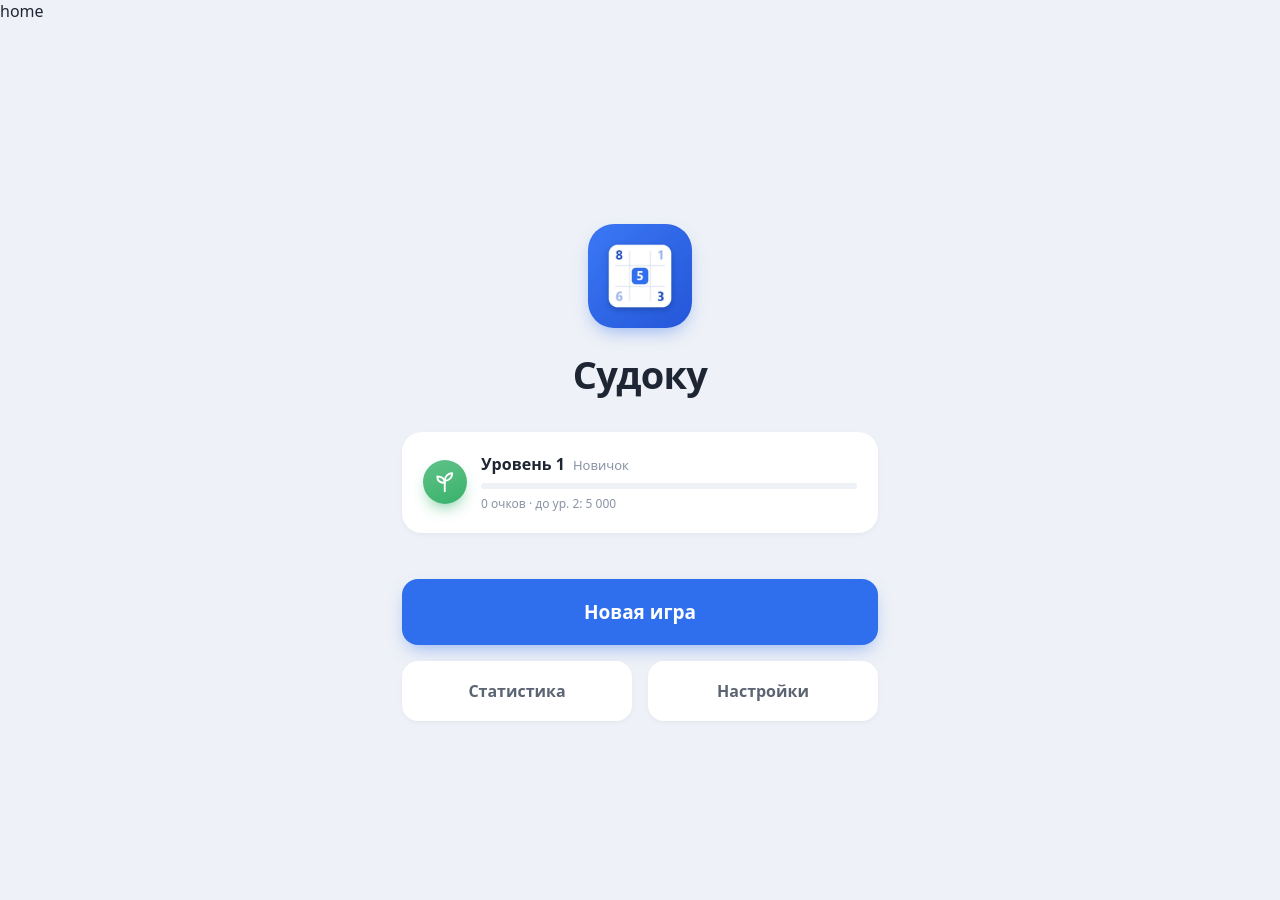
Test case: HomeScreen › Новая игра открывает выбор сложности, выбор ведёт в игру
The width and height of the screenshot is (1280, 900).
Step 1. Click the button with test id "home-new-game" → click(640, 612), box [402,578,878,644]
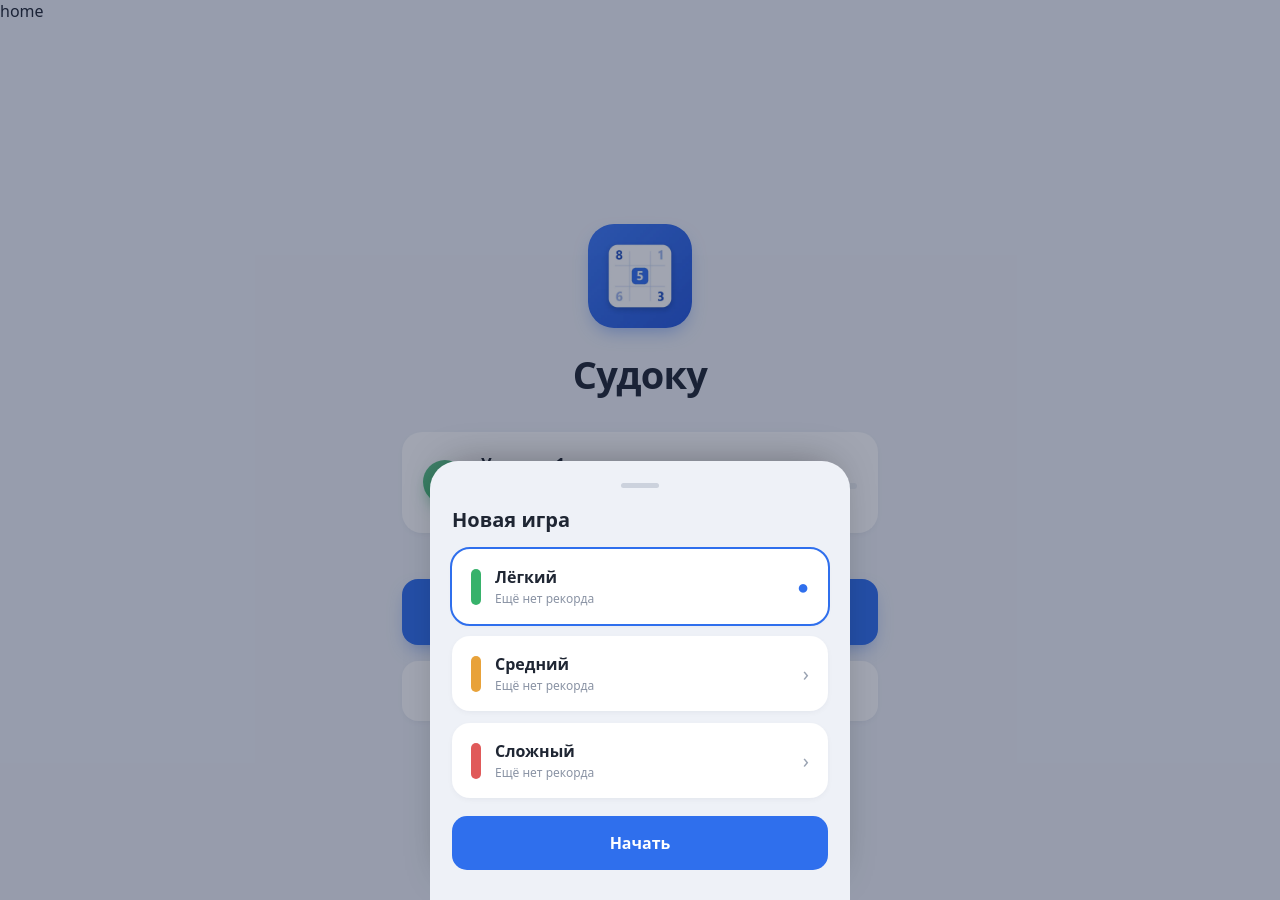
Check: the dialog with test id "difficulty-picker" is shown
Step 2. Click the button with test id "difficulty-medium" → click(532, 664), box [452,636,828,711]
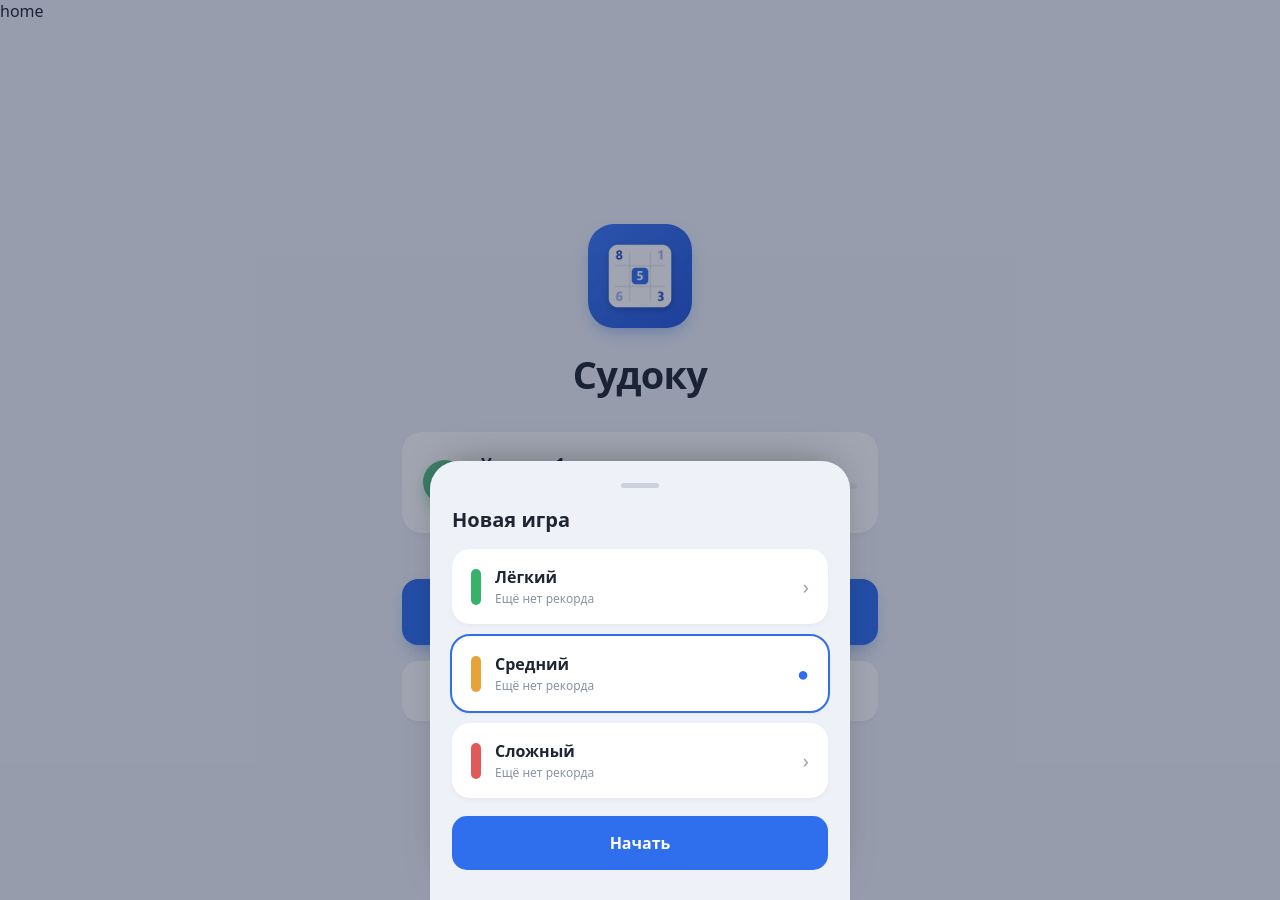
Step 3. Click the button with test id "difficulty-start" → click(640, 843), box [452,816,828,870]
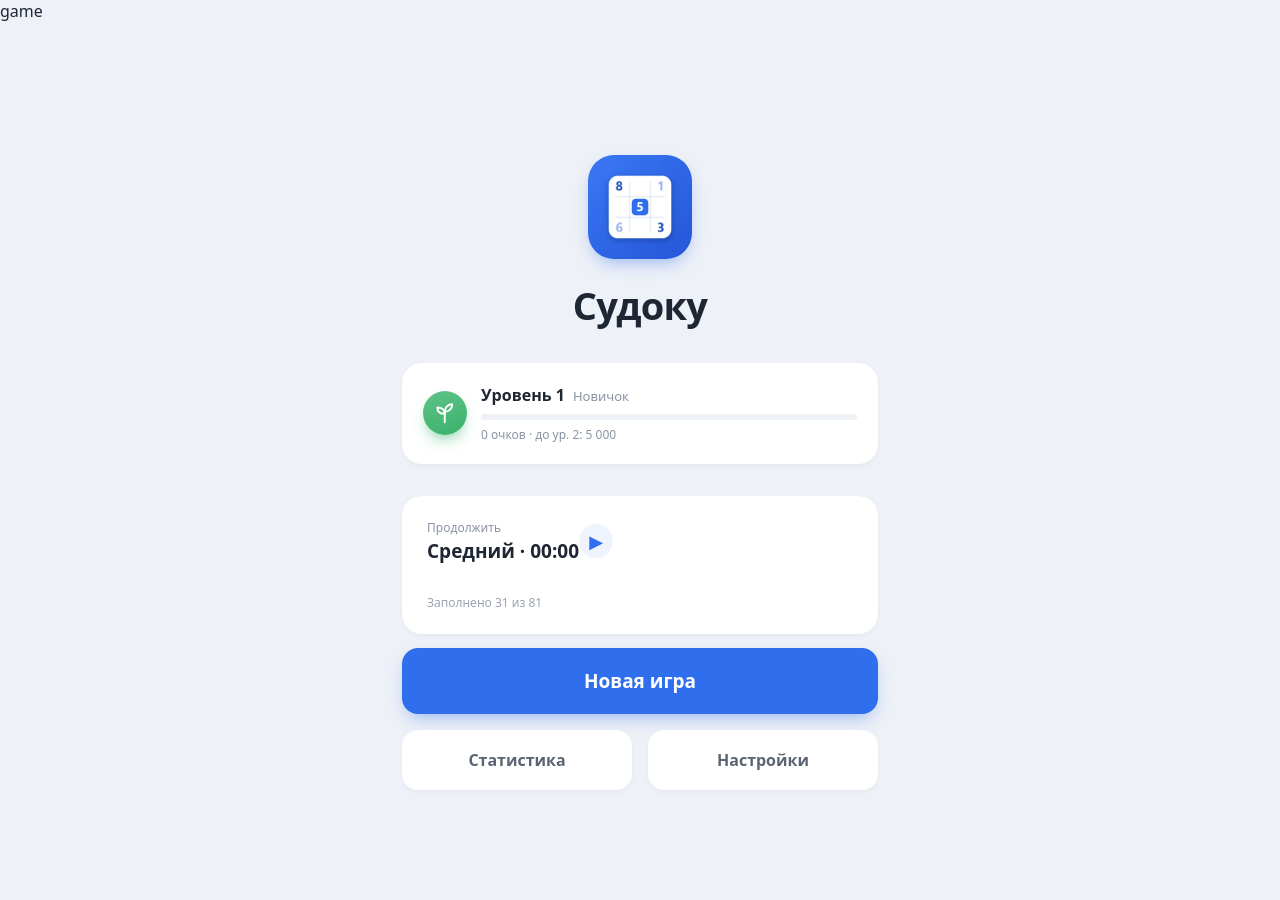
Check: the text with test id "current-screen" reads "game", box [0,0,43,22]
